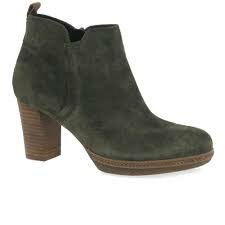Ankle boots: (8, 1, 221, 180)
